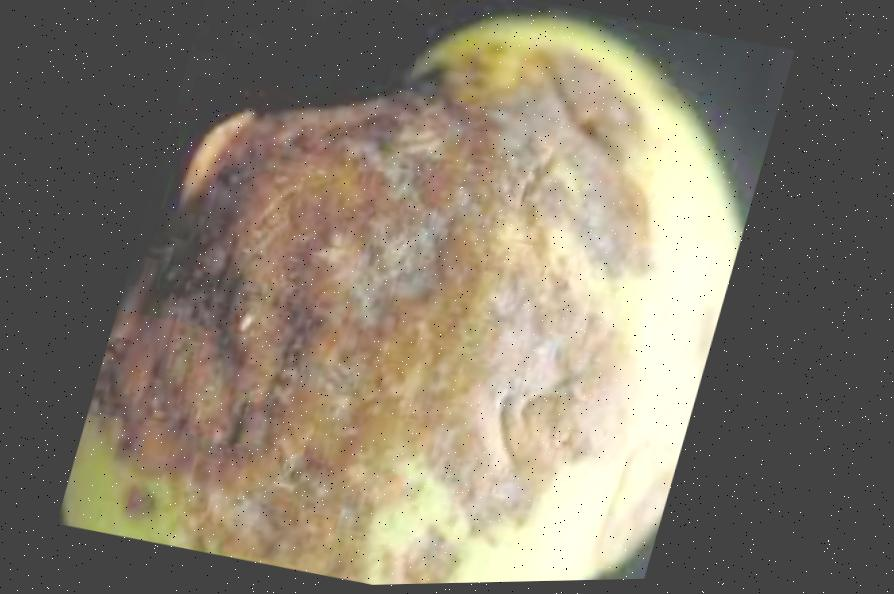BLOTCH: (57, 0, 784, 592)
